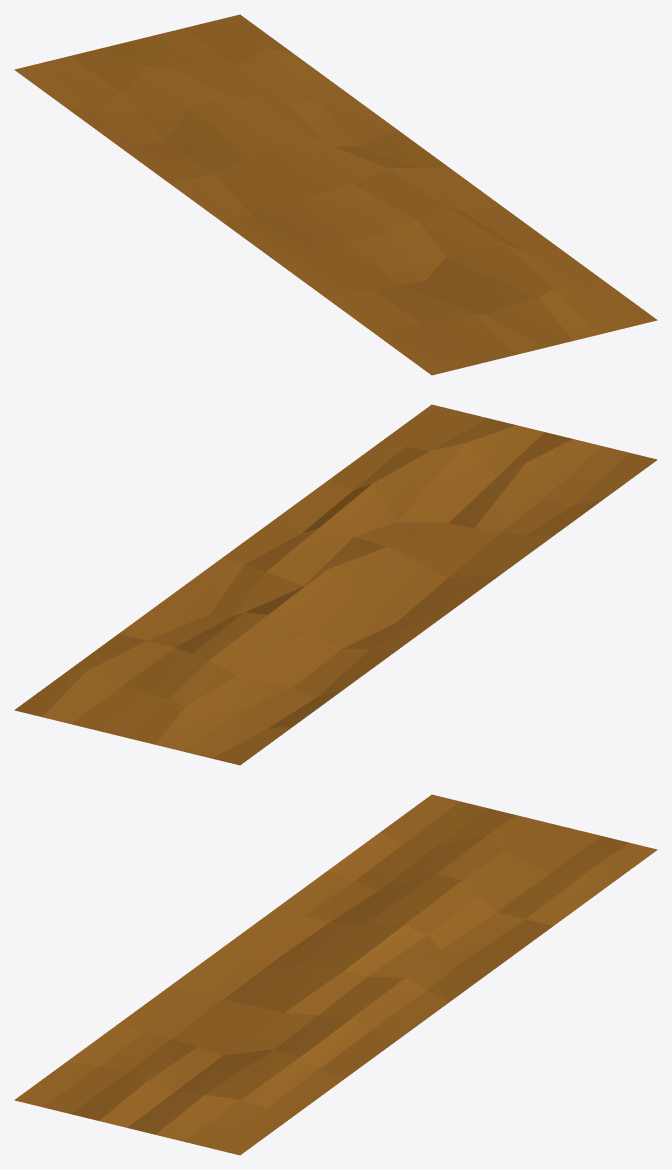
The model's file is cGround_B_Under_1_.glb.
The picture shows the model from 3 angles, top to bottom: view 1: azimuth 30°, elevation 25°; view 2: azimuth 150°, elevation 25°; view 3: azimuth 330°, elevation 25°; orthographic projection.
Parts seen in each view (by area): view 1: cGround_B_Under_1; view 2: cGround_B_Under_1; view 3: cGround_B_Under_1.
Part boxes in pixels (x1=…): cGround_B_Under_1: x1=14, y1=14, x2=657, y2=375; cGround_B_Under_1: x1=14, y1=404, x2=657, y2=765; cGround_B_Under_1: x1=14, y1=794, x2=657, y2=1155.
Bounding box in the file's own units: 10 × 0.9464 × 32.
Materials: 1 (1 with a texture image).
